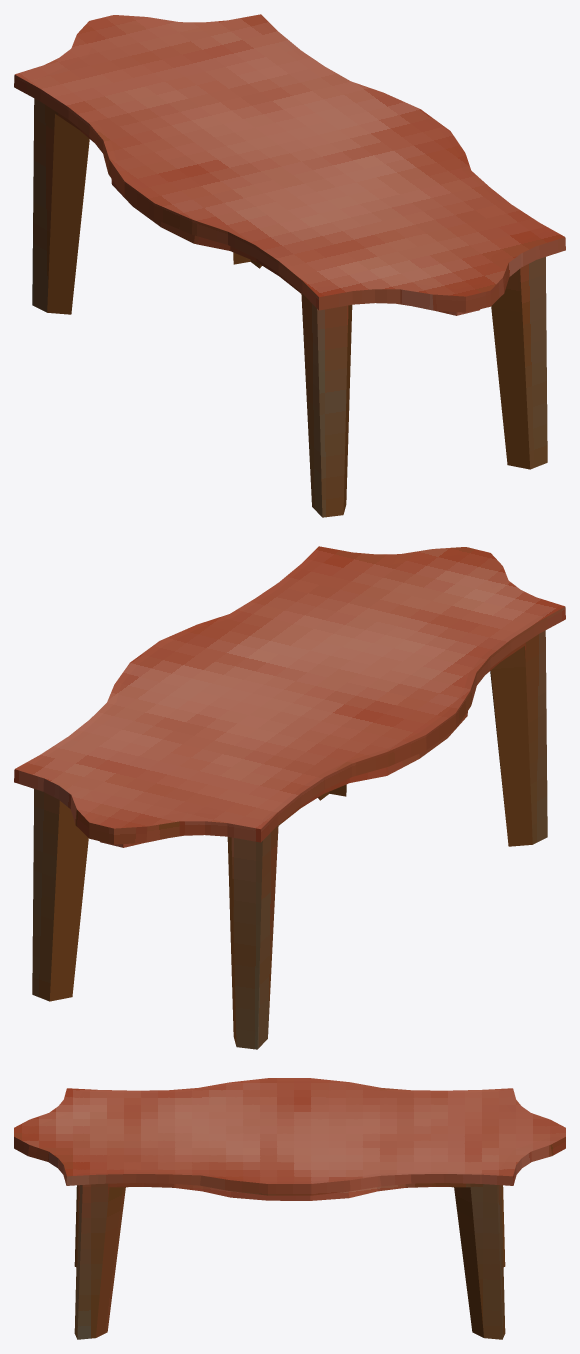
The model's file is suslu_masa.fbx.
3 renders of one model, top to bottom at view 1: azimuth 30°, elevation 25°; view 2: azimuth 150°, elevation 25°; view 3: azimuth 270°, elevation 25°, orthographic. The views are drawn at different scales.
Parts seen in each view (by area): view 1: Cube; view 2: Cube; view 3: Cube.
Boxes of the visible parts, left/top/right/bottom form: Cube: left=14, top=14, right=565, bottom=517; Cube: left=14, top=546, right=565, bottom=1049; Cube: left=14, top=1078, right=565, bottom=1339.
Bounding box in the file's own units: 4.15 × 3.07 × 9.13.
Materials: 1 (1 with a texture image).
